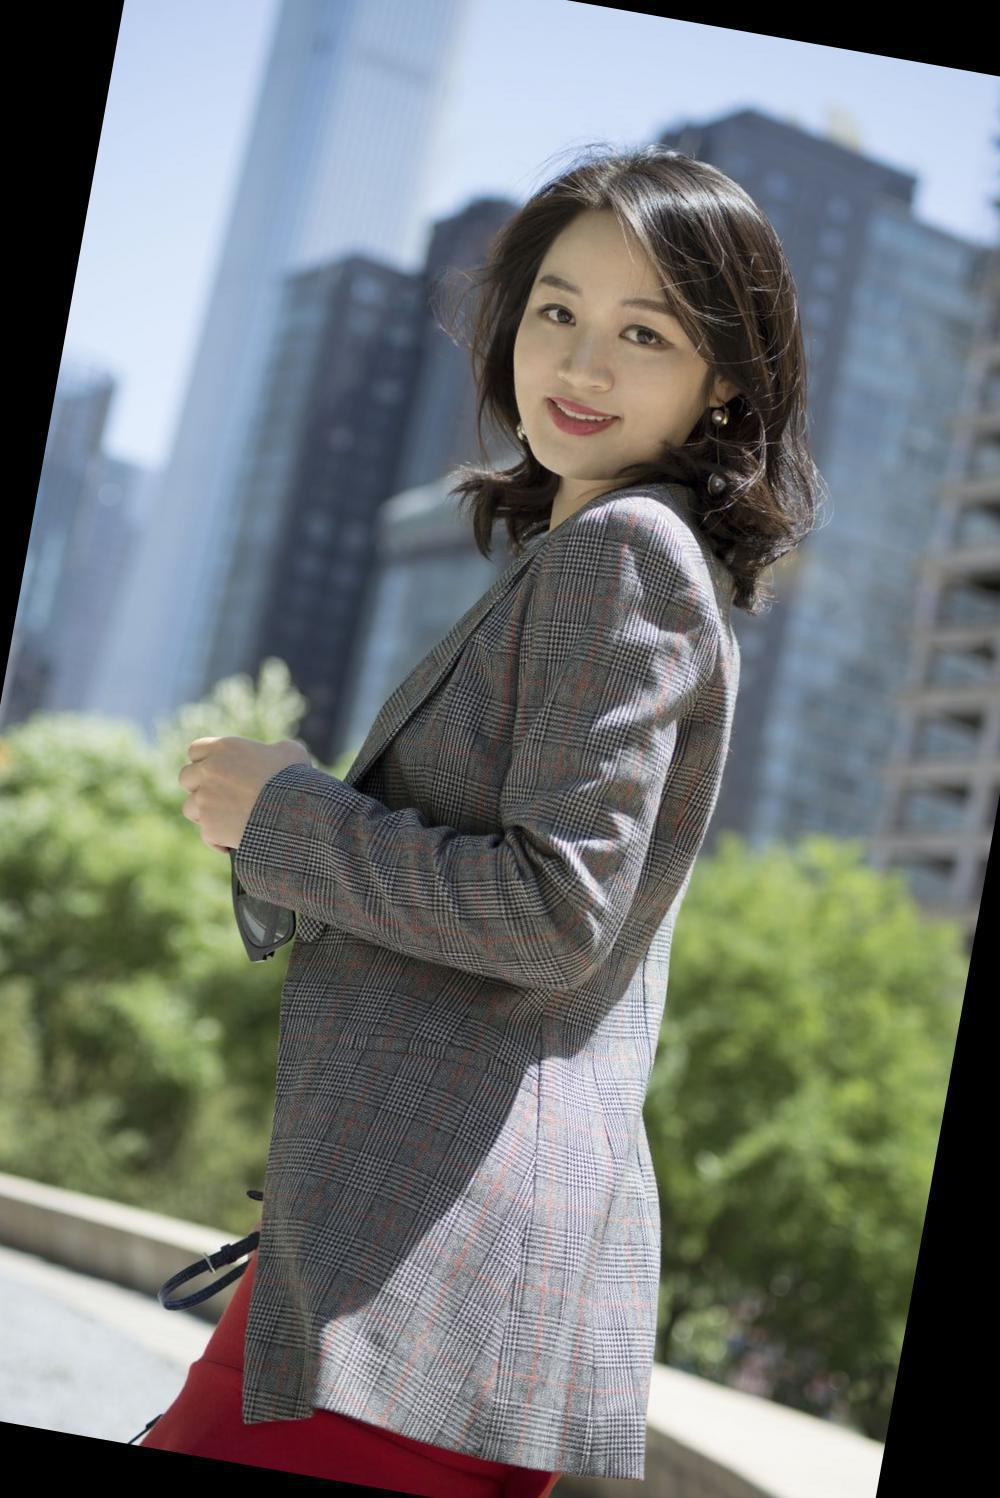Sober: (518, 231, 704, 476)
